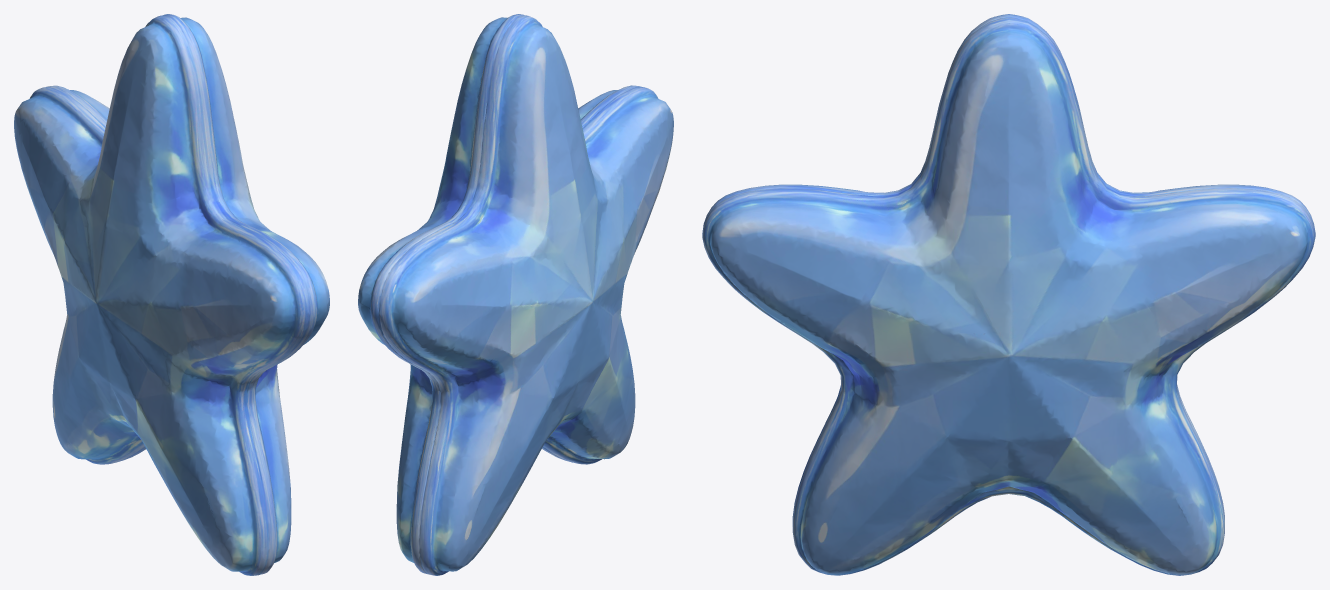
The model's file is star.glb.
The picture shows the model from 3 angles, left to right: view 1: azimuth 30°, elevation 25°; view 2: azimuth 150°, elevation 25°; view 3: azimuth 270°, elevation 25°; orthographic projection. The views are drawn at different scales.
Visible parts, largest first — view 1: tripo_node_fd56bf6f-d5d2-4670-8068-f2883926b747; view 2: tripo_node_fd56bf6f-d5d2-4670-8068-f2883926b747; view 3: tripo_node_fd56bf6f-d5d2-4670-8068-f2883926b747.
Part boxes in pixels (x1,y1,x2,y2): tripo_node_fd56bf6f-d5d2-4670-8068-f2883926b747: (14, 14, 329, 575); tripo_node_fd56bf6f-d5d2-4670-8068-f2883926b747: (358, 14, 673, 575); tripo_node_fd56bf6f-d5d2-4670-8068-f2883926b747: (702, 14, 1315, 575).
Size of the model in its own units: 0.3138 by 0.9794 by 0.9801.
1 material, 1 textured.
